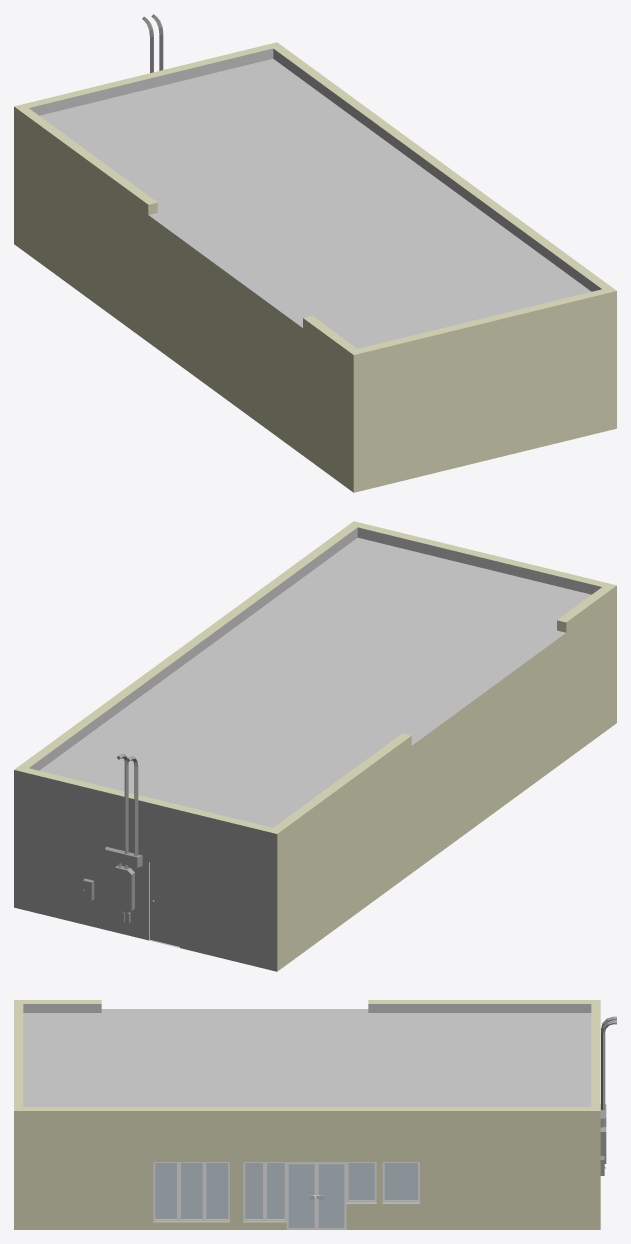
Rendered from build_1.fbx.
3 views of the same model, one above another, from view 1: azimuth 30°, elevation 25°; view 2: azimuth 150°, elevation 25°; view 3: azimuth 270°, elevation 25° (orthographic). The views are drawn at different scales.
Visible parts, largest first — view 1: polySurface19; view 2: polySurface19, polySurface37; view 3: polySurface19, polySurface37.
Part boxes in pixels (left/top/right/bottom): polySurface19: left=14, top=42, right=616, bottom=492; polySurface19: left=14, top=521, right=616, bottom=971; polySurface37: left=82, top=753, right=154, bottom=923; polySurface19: left=14, top=1000, right=600, bottom=1229; polySurface37: left=600, top=1016, right=616, bottom=1175.
Bounding box in the file's own units: 709 × 475 × 1609.
